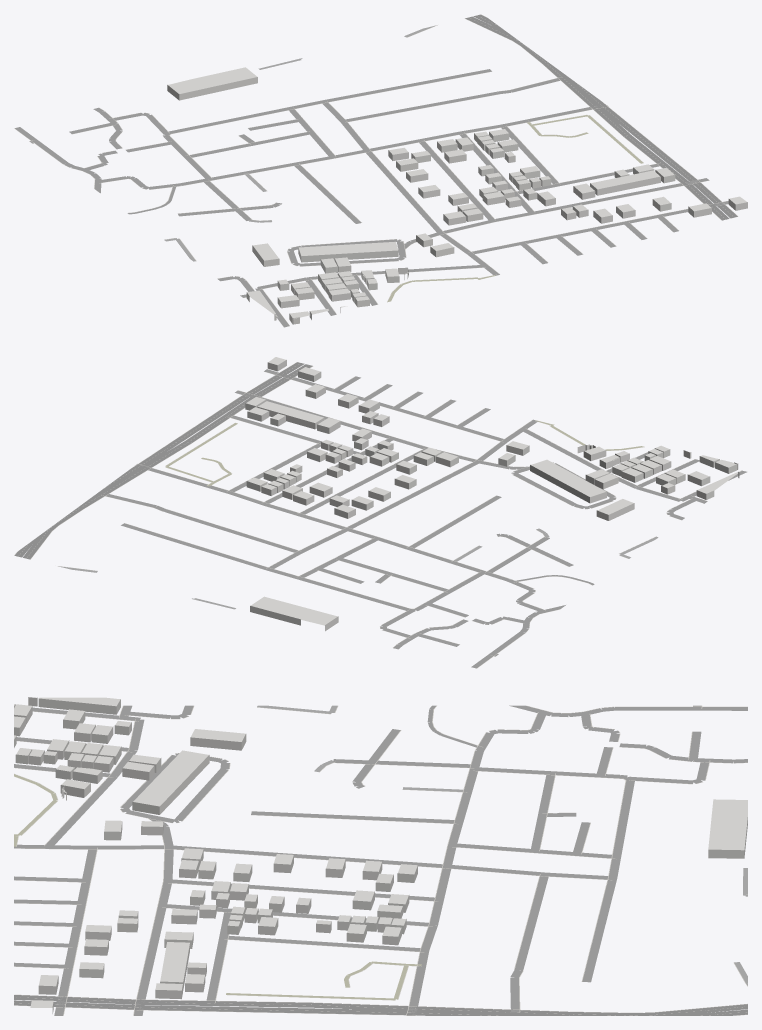
File: chunk_0_2.glb
The picture shows the model from 3 angles, top to bottom: view 1: azimuth 30°, elevation 25°; view 2: azimuth 150°, elevation 25°; view 3: azimuth 270°, elevation 25°; orthographic projection. The views are drawn at different scales.
Parts seen in each view (by area): view 1: buildings_0816_0808_0788, roads_04_04_04, roads_kerbs_markings, roads_0333_0333_0333, roads_06_06_0467; view 2: buildings_0816_0808_0788, roads_04_04_04, roads_kerbs_markings, roads_0333_0333_0333, roads_06_06_0467; view 3: roads_04_04_04, buildings_0816_0808_0788, roads_kerbs_markings, roads_0333_0333_0333, roads_06_06_0467, roads_0467_0467_0467.
Part boxes in pixels (x1=…): buildings_0816_0808_0788: x1=167, y1=67, x2=747, y2=324; roads_04_04_04: x1=15, y1=69, x2=728, y2=327; roads_kerbs_markings: x1=14, y1=14, x2=738, y2=325; roads_0333_0333_0333: x1=465, y1=14, x2=737, y2=220; roads_06_06_0467: x1=387, y1=115, x2=643, y2=302; buildings_0816_0808_0788: x1=245, y1=357, x2=741, y2=631; roads_04_04_04: x1=105, y1=369, x2=746, y2=668; roads_kerbs_markings: x1=14, y1=362, x2=737, y2=668; roads_0333_0333_0333: x1=14, y1=362, x2=312, y2=559; roads_06_06_0467: x1=165, y1=420, x2=644, y2=486; roads_04_04_04: x1=14, y1=705, x2=747, y2=1015; buildings_0816_0808_0788: x1=14, y1=697, x2=747, y2=1013; roads_kerbs_markings: x1=14, y1=705, x2=747, y2=1015; roads_0333_0333_0333: x1=14, y1=995, x2=747, y2=1015; roads_06_06_0467: x1=14, y1=774, x2=421, y2=1000; roads_0467_0467_0467: x1=257, y1=705, x2=747, y2=985.
Bounding box in the file's own units: 500 × 6.45 × 500.
